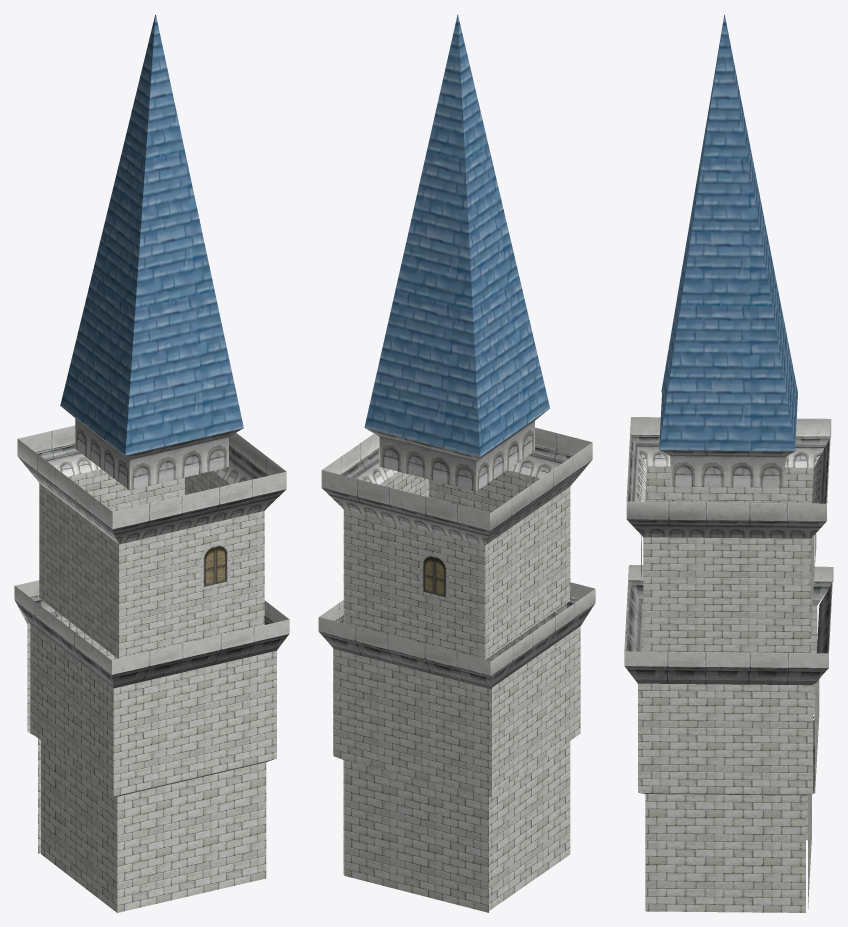
The model's file is HyruleCastle_BigTower.obj.
The picture shows the model from 3 angles, left to right: view 1: azimuth 30°, elevation 25°; view 2: azimuth 150°, elevation 25°; view 3: azimuth 270°, elevation 25°; orthographic projection.
Visible parts, largest first — view 1: Tower_Base_2.001_naka_siro_01_45680.001, Tower_naka_yane_01_52300.001, Tower_Walls_2.001_naka_siro_02_48080.001, Tower_Cone_4.001_naka_yane_01_52300, Tower_Frames_3.001_naka_siro_02_48080, Tower_Walls_3.001_naka_siro_01_45680, Tower_Window_.001_naka_kabe_07_35980.001; view 2: Tower_Walls_3.001_naka_siro_01_45680, Tower_Cone_4.001_naka_yane_01_52300, Tower_Base_2.001_naka_siro_01_45680.001, Tower_Frames_3.001_naka_siro_02_48080, Tower_Walls_2.001_naka_siro_02_48080.001, Tower_Window_2.001_naka_kabe_07_35980; view 3: Tower_Base_2.001_naka_siro_01_45680.001, Tower_naka_yane_01_52300.001, Tower_Walls_2.001_naka_siro_02_48080.001, Tower_Cone_4.001_naka_yane_01_52300, Tower_Frames_3.001_naka_siro_02_48080, Tower_Walls_3.001_naka_siro_01_45680.
Part boxes in pixels (box(x1,y1,x2,y2)): Tower_Base_2.001_naka_siro_01_45680.001: box(30, 471, 276, 912); Tower_naka_yane_01_52300.001: box(125, 14, 243, 455); Tower_Walls_2.001_naka_siro_02_48080.001: box(14, 428, 289, 796); Tower_Cone_4.001_naka_yane_01_52300: box(60, 15, 155, 455); Tower_Frames_3.001_naka_siro_02_48080: box(14, 409, 129, 735); Tower_Walls_3.001_naka_siro_01_45680: box(27, 469, 184, 853); Tower_Window_.001_naka_kabe_07_35980.001: box(200, 543, 230, 590); Tower_Walls_3.001_naka_siro_01_45680: box(333, 509, 491, 912); Tower_Cone_4.001_naka_yane_01_52300: box(365, 14, 549, 456); Tower_Base_2.001_naka_siro_01_45680.001: box(333, 470, 580, 910); Tower_Frames_3.001_naka_siro_02_48080: box(319, 410, 547, 797); Tower_Walls_2.001_naka_siro_02_48080.001: box(318, 427, 595, 755); Tower_Window_2.001_naka_kabe_07_35980: box(420, 554, 448, 601); Tower_Base_2.001_naka_siro_01_45680.001: box(638, 466, 817, 912); Tower_naka_yane_01_52300.001: box(659, 15, 795, 451); Tower_Walls_2.001_naka_siro_02_48080.001: box(624, 417, 833, 795); Tower_Cone_4.001_naka_yane_01_52300: box(661, 15, 797, 446); Tower_Frames_3.001_naka_siro_02_48080: box(661, 392, 832, 793); Tower_Walls_3.001_naka_siro_01_45680: box(808, 536, 819, 908).
Size of the model in its own units: 0.0685 by 0.3116 by 0.0685.
